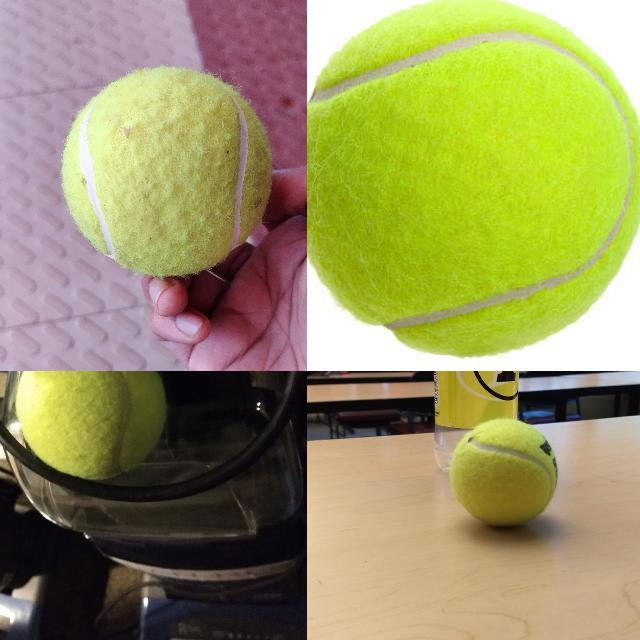tennis-ball: (307, 0, 639, 358), (61, 67, 272, 275), (14, 371, 169, 482), (448, 417, 558, 528)
